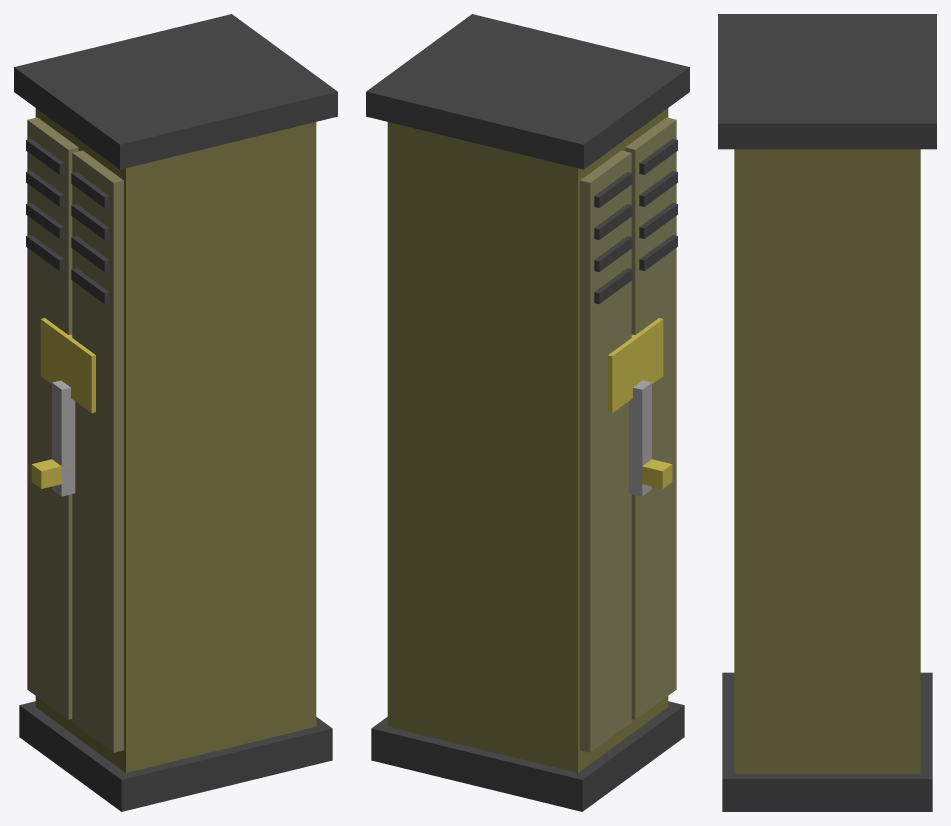
Rendered from SM_SurvivalSupplyLocker.glb.
3 renders of one model, left to right at view 1: azimuth 30°, elevation 25°; view 2: azimuth 150°, elevation 25°; view 3: azimuth 270°, elevation 25°, orthographic. The views are drawn at different scales.
Visible parts, largest first — view 1: body, top_cap, door1, door0, base, label, latch, handle, louvre0_0, louvre0_1, louvre1_2, louvre1_3 (+4 smaller); view 2: body, top_cap, door0, door1, base, label, latch, handle, louvre1_0, louvre1_1, louvre0_2, louvre0_3 (+4 smaller); view 3: body, top_cap, base.
Part boxes in pixels (x1,y1,x2,y2): body: (35,108,316,772); top_cap: (14,14,337,169); door1: (72,150,123,752); door0: (27,117,78,719); base: (19,701,332,811); label: (40,318,95,413); latch: (52,380,75,496); handle: (31,459,75,488); louvre0_0: (26,235,64,270); louvre0_1: (26,203,64,238); louvre1_2: (71,204,109,239); louvre1_3: (71,172,109,207); body: (387,108,668,772); top_cap: (366,14,689,169); door0: (580,150,631,752); door1: (625,117,676,719); base: (371,701,684,811); label: (608,318,663,413); latch: (628,380,651,496); handle: (642,459,672,488); louvre1_0: (639,235,677,270); louvre1_1: (639,203,677,238); louvre0_2: (594,204,632,239); louvre0_3: (594,172,632,207); body: (734,149,920,773); top_cap: (718,14,936,149); base: (722,672,932,811).
Bounding box in the file's own units: 0.73 × 1.88 × 0.54.
